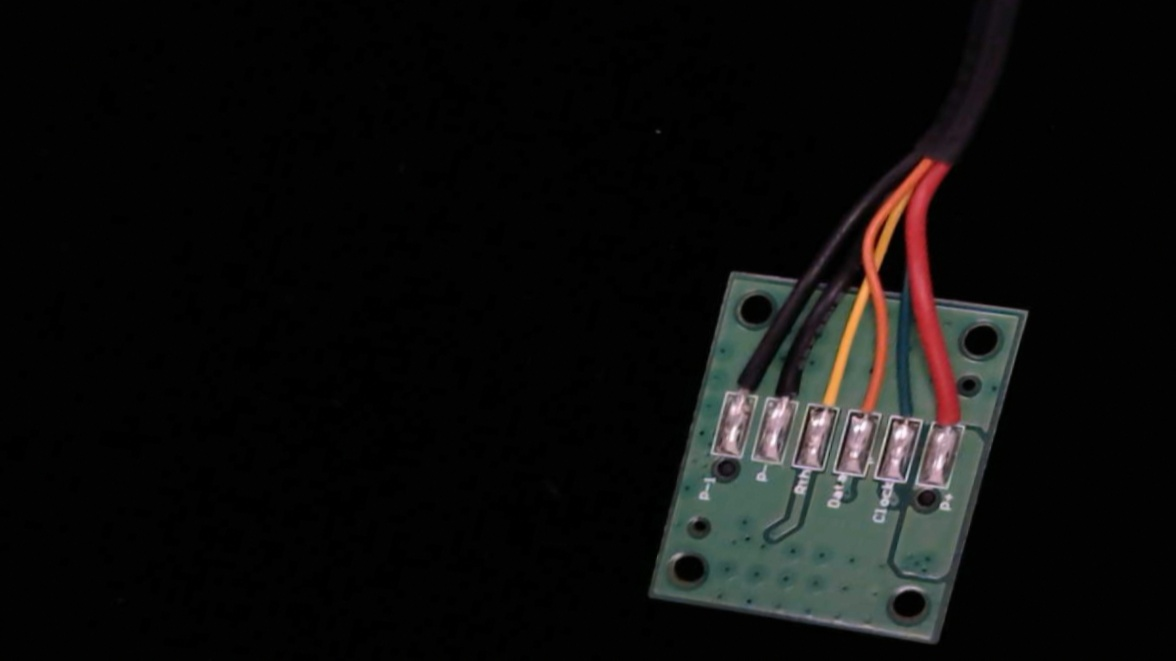Black: (761, 351, 813, 423)
Black1: (719, 341, 772, 416)
Green: (881, 369, 933, 440)
Orange: (844, 361, 895, 435)
Red: (924, 374, 975, 445)
Yellow: (804, 361, 849, 429)
